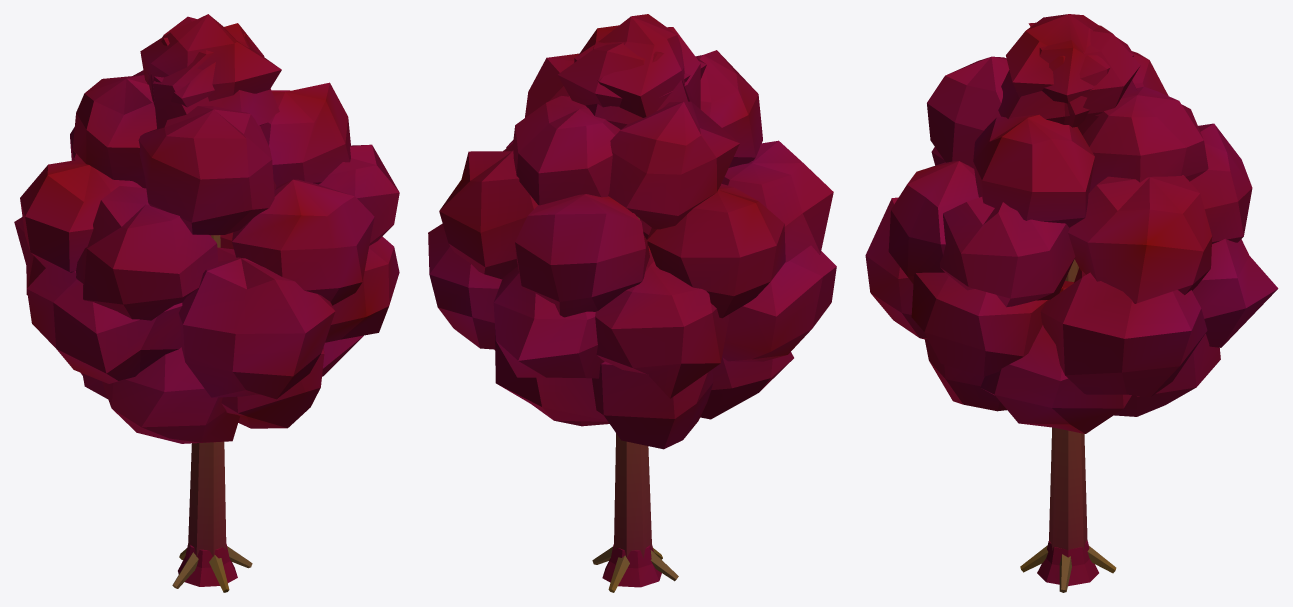
The model's file is Tree_Linden_01.glb.
The picture shows the model from 3 angles, left to right: view 1: azimuth 30°, elevation 25°; view 2: azimuth 150°, elevation 25°; view 3: azimuth 270°, elevation 25°; orthographic projection.
Visible parts, largest first — view 1: Tree_Linden_01; view 2: Tree_Linden_01; view 3: Tree_Linden_01.
Part boxes in pixels (x1,y1,x2,y2): Tree_Linden_01: (14, 14, 399, 592); Tree_Linden_01: (428, 14, 836, 592); Tree_Linden_01: (865, 14, 1278, 592).
Bounding box in the file's own units: 6.01 × 9.23 × 6.16.
